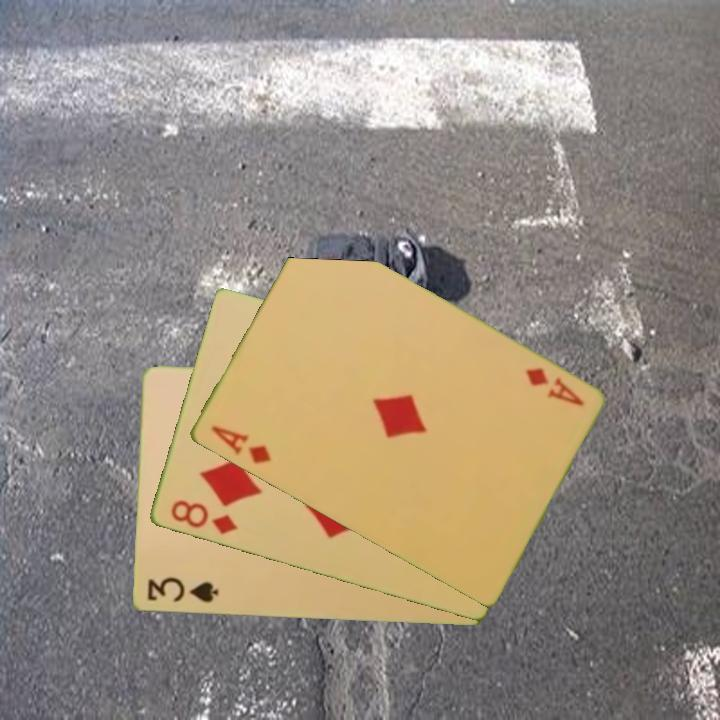3s: (143, 574, 221, 606)
8d: (166, 497, 240, 538)
Ad: (206, 422, 274, 467), (521, 364, 586, 410)
